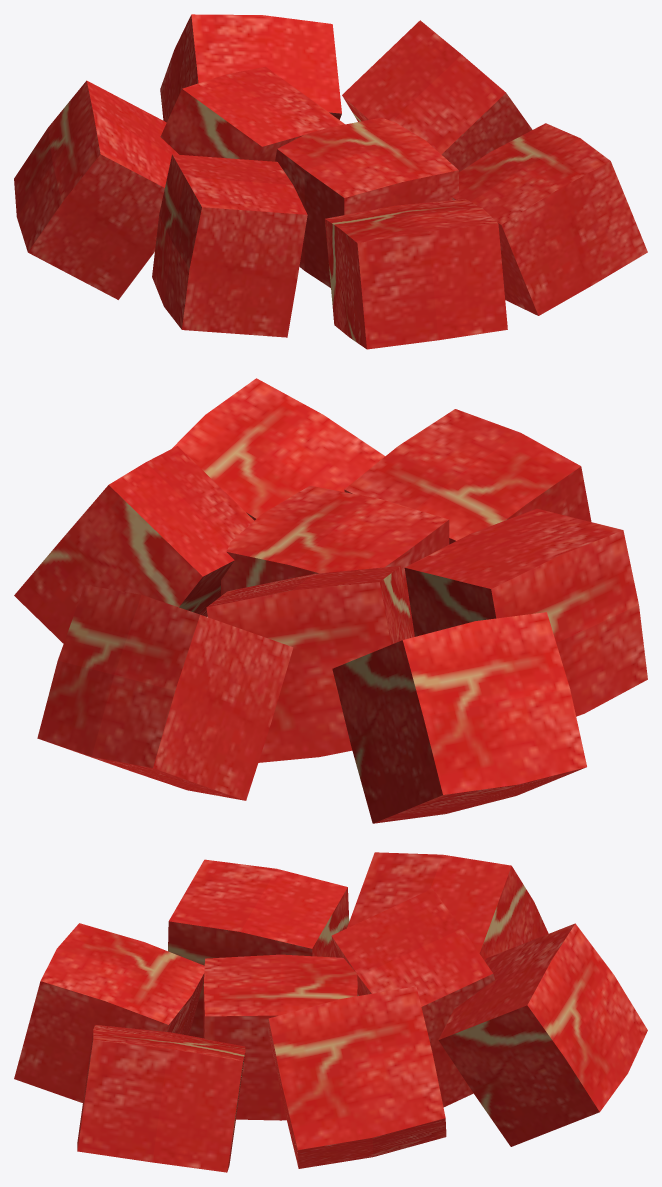
File: Diced_Meat.fbx
The picture shows the model from 3 angles, top to bottom: view 1: azimuth 30°, elevation 25°; view 2: azimuth 150°, elevation 25°; view 3: azimuth 270°, elevation 25°; orthographic projection. The views are drawn at different scales.
Visible parts, largest first — view 1: Diced_Meat; view 2: Diced_Meat; view 3: Diced_Meat.
Part boxes in pixels (x1,y1,x2,y2): Diced_Meat: [14, 14, 647, 349]; Diced_Meat: [14, 378, 647, 823]; Diced_Meat: [14, 852, 647, 1172].
Bounding box in the file's own units: 0.8948 × 0.345 × 1.01.
Materials: 1 (1 with a texture image).
